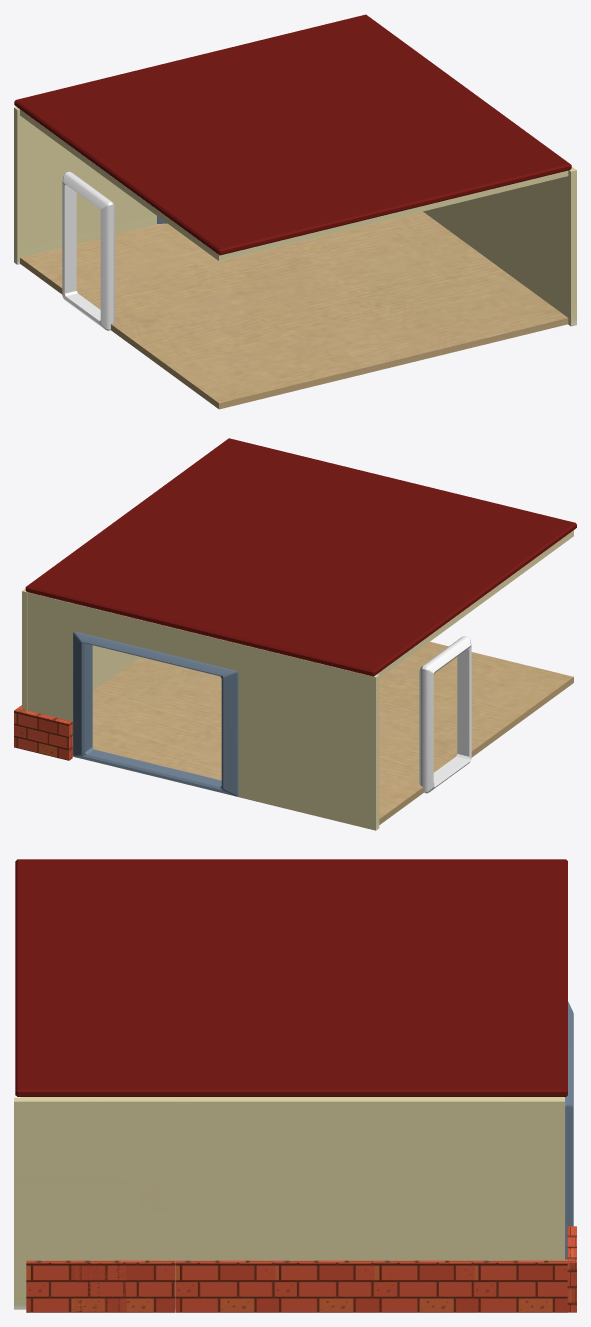
The model's file is casa3.obj.
3 renders of one model, top to bottom at view 1: azimuth 30°, elevation 25°; view 2: azimuth 150°, elevation 25°; view 3: azimuth 270°, elevation 25°, orthographic. The views are drawn at different scales.
Visible parts, largest first — view 1: pasted__pasted__pasted__pCube3 pasted__pasted__group13 pasted__g, polySurface25, pasted__pasted__pasted__pCube2 pasted__pasted__group4 pasted__gr, pCube2, pasted__pasted__pasted__pasted__pCube1 pasted__pasted__pasted__g, pasted__pasted__pCube3 pasted__group13 group63; view 2: pasted__pasted__pasted__pCube3 pasted__pasted__group13 pasted__g, pCube2, polySurface25, pasted__pasted__pasted__pasted__pasted__pCube1 pasted__pasted__p, pasted__pasted__pasted__pasted__pCube1 pasted__pasted__pasted__g, polySurface17 polySurface10, pasted__pasted__pasted__pCube2 pasted__pasted__group4 pasted__gr, pasted__pasted__pCube3 pasted__group13 group63; view 3: pasted__pasted__pasted__pCube3 pasted__pasted__group13 pasted__g, pasted__pasted__pasted__pCube2 pasted__pasted__group4 pasted__gr, polySurface25, pasted__pasted__pasted__pasted__pasted__pCube1 pasted__pasted__p, polySurface17 polySurface10.
Boxes of the visible parts, x1,y1,x2,y2 form: pasted__pasted__pasted__pCube3 pasted__pasted__group13 pasted__g: (14,14,571,255); polySurface25: (20,211,568,409); pasted__pasted__pasted__pCube2 pasted__pasted__group4 pasted__gr: (423,166,576,326); pCube2: (14,107,156,264); pasted__pasted__pasted__pasted__pCube1 pasted__pasted__pasted__g: (62,171,114,330); pasted__pasted__pCube3 pasted__group13 group63: (20,109,568,261); pasted__pasted__pasted__pCube3 pasted__pasted__group13 pasted__g: (25,438,576,676); pCube2: (28,592,379,830); polySurface25: (18,642,573,824); pasted__pasted__pasted__pasted__pasted__pCube1 pasted__pasted__p: (73,631,238,796); pasted__pasted__pasted__pasted__pCube1 pasted__pasted__pasted__g: (419,636,471,793); polySurface17 polySurface10: (14,708,72,760); pasted__pasted__pasted__pCube2 pasted__pasted__group4 pasted__gr: (22,588,139,710); pasted__pasted__pCube3 pasted__group13 group63: (377,530,573,678); pasted__pasted__pasted__pCube3 pasted__pasted__group13 pasted__g: (15,859,567,1096); pasted__pasted__pasted__pCube2 pasted__pasted__group4 pasted__gr: (14,1097,564,1309); polySurface25: (26,1259,573,1312); pasted__pasted__pasted__pasted__pasted__pCube1 pasted__pasted__p: (565,1001,573,1258); polySurface17 polySurface10: (567,1226,576,1312).
Size of the model in its own units: 619 by 262 by 613.
Materials: 17 (17 with a texture image).
